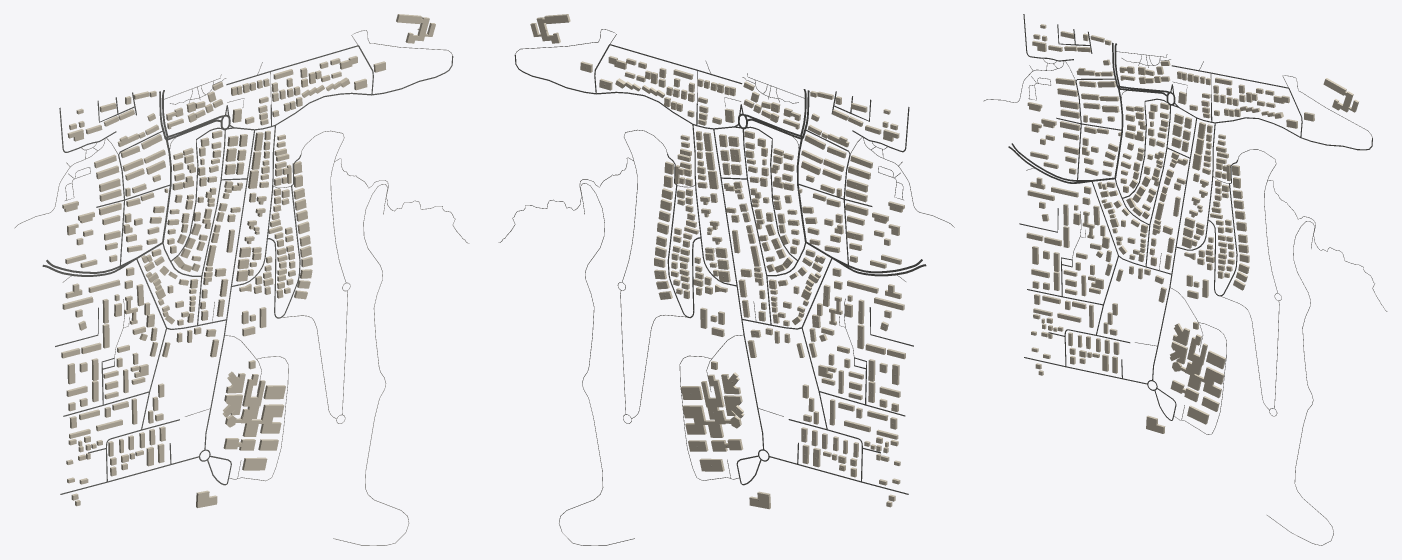
The model's file is historic-palestine-08_33_3497_3275.glb.
3 views of the same model, side by side, from view 1: azimuth 30°, elevation 25°; view 2: azimuth 150°, elevation 25°; view 3: azimuth 330°, elevation 25° (orthographic). The views are drawn at different scales.
Parts seen in each view (by area): view 1: Building_.100, Building_.273, Road האלה, Road .038; view 2: Building_.100, Building_.273, Road האלה, Road .038; view 3: Building_.100, Building_.273.
Part boxes in pixels (left/top/right/bottom): Building_.100: left=225, top=374, right=284, bottom=436; Building_.273: left=396, top=14, right=435, bottom=43; Road האלה: left=204, top=130, right=254, bottom=450; Road .038: left=333, top=184, right=409, bottom=545; Building_.100: left=682, top=374, right=741, bottom=437; Building_.273: left=530, top=14, right=570, bottom=43; Road האלה: left=713, top=129, right=764, bottom=449; Road .038: left=559, top=183, right=634, bottom=545; Building_.100: left=1172, top=334, right=1224, bottom=398; Building_.273: left=1323, top=78, right=1358, bottom=112.
Size of the model in its own units: 1218 by 1347 by 13.6.
